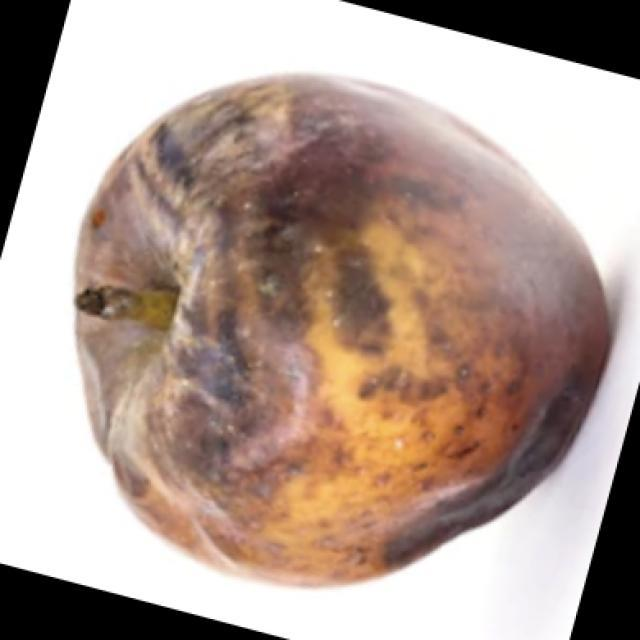Rotten: (102, 88, 578, 570)
